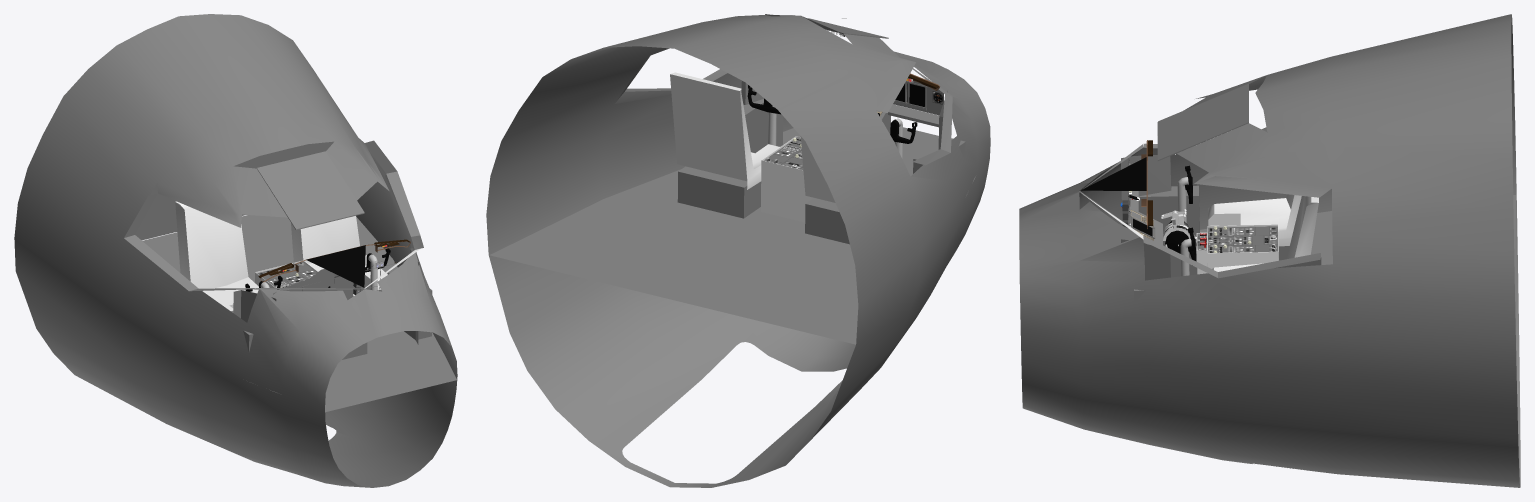
Rendered from interior.gltf.
3 renders of one model, left to right at view 1: azimuth 30°, elevation 25°; view 2: azimuth 150°, elevation 25°; view 3: azimuth 270°, elevation 25°, orthographic. The views are drawn at different scales.
Parts seen in each view (by area): view 1: Interior; view 2: Interior; view 3: Interior.
Boxes of the visible parts, bbox=[...] form: Interior: bbox=[14, 14, 457, 487]; Interior: bbox=[486, 14, 990, 487]; Interior: bbox=[1019, 14, 1520, 487].
Size of the model in its own units: 3.06 by 3.42 by 3.52.
75 materials, 35 textured.
